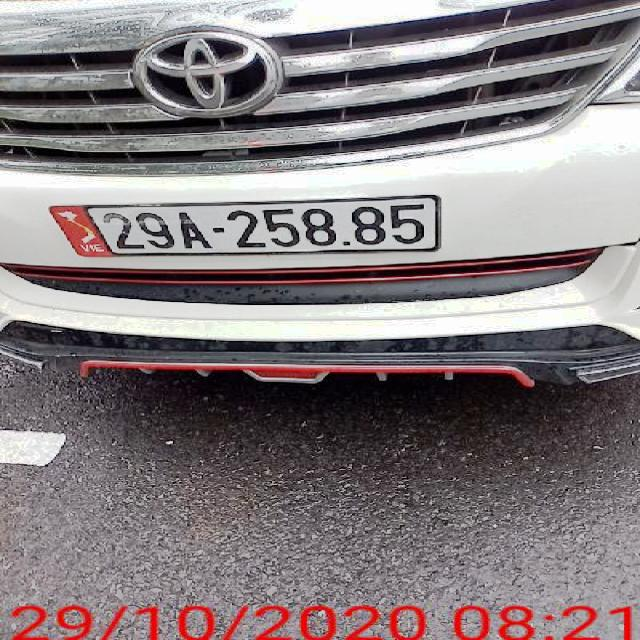license_plate: (48, 198, 442, 257)
